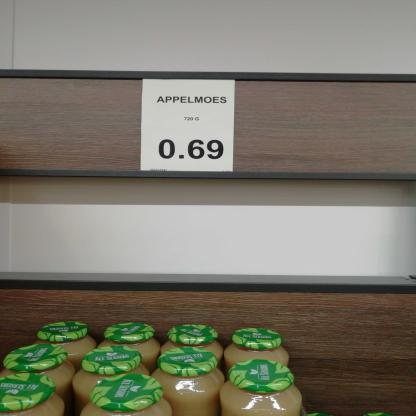prtg: (141, 80, 236, 173)
